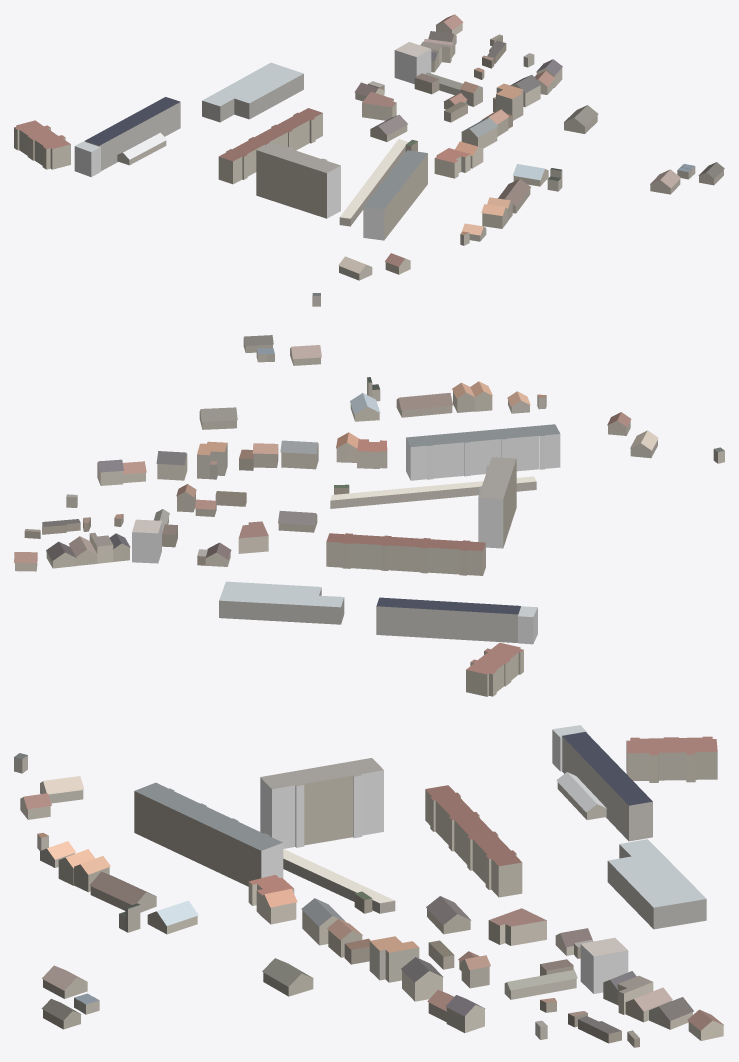
3 renders of one model, top to bottom at view 1: azimuth 30°, elevation 25°; view 2: azimuth 150°, elevation 25°; view 3: azimuth 270°, elevation 25°, orthographic. The views are drawn at different scales.
Visible parts, largest first — view 1: tuile; view 2: tuile; view 3: tuile.
Part boxes in pixels (x1,y1,x2,y2): tuile: [14, 14, 724, 306]; tuile: [14, 335, 724, 696]; tuile: [14, 725, 723, 1047].
Bounding box in the file's own units: 262 × 32.75 × 253.
